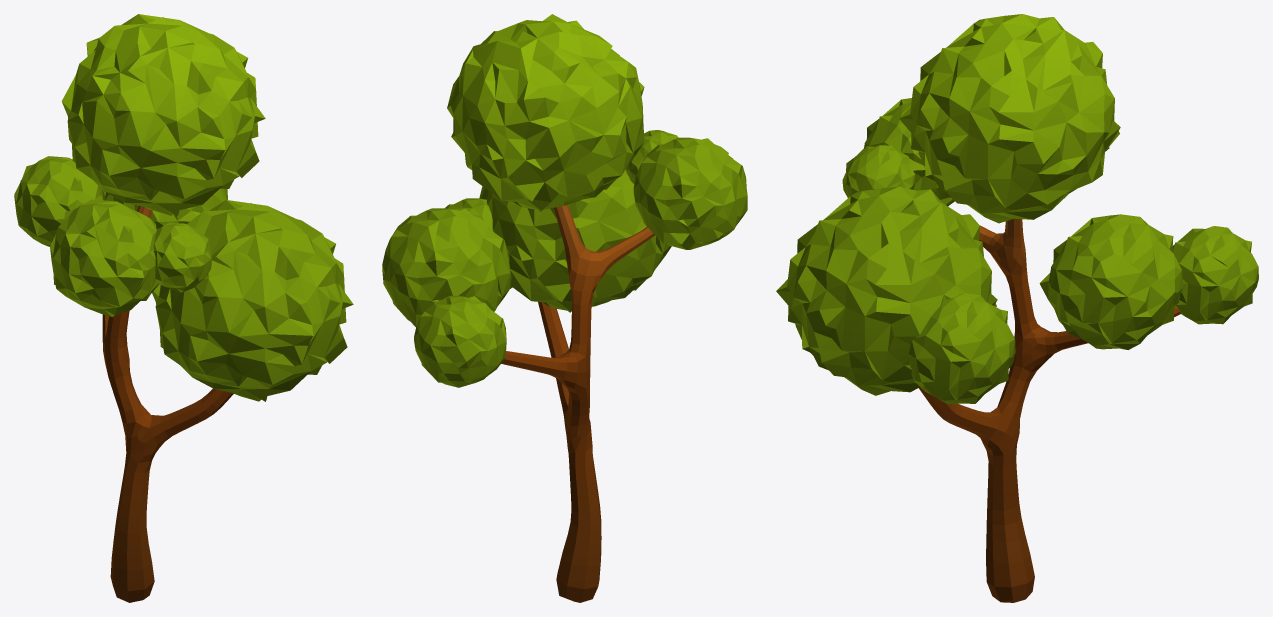
Rendered from LowPolyTree2.fbx.
The picture shows the model from 3 angles, left to right: view 1: azimuth 30°, elevation 25°; view 2: azimuth 150°, elevation 25°; view 3: azimuth 270°, elevation 25°; orthographic projection. The views are drawn at different scales.
Visible parts, largest first — view 1: TreeTwo; view 2: TreeTwo; view 3: TreeTwo.
Boxes of the visible parts, x1,y1,x2,y2 form: TreeTwo: (14, 14, 353, 602); TreeTwo: (382, 14, 747, 602); TreeTwo: (776, 14, 1258, 602).
Size of the model in its own units: 1088 by 2044 by 1505.
